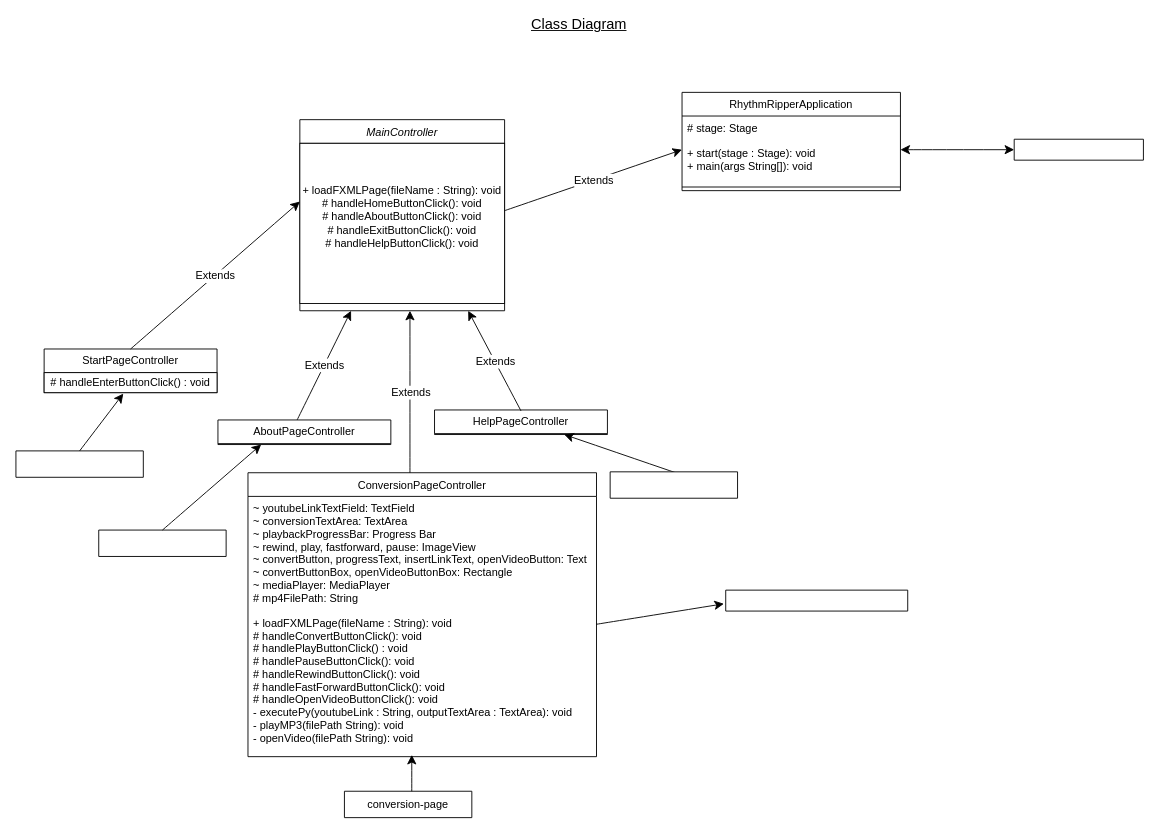
This 1159x834 diagram has some shape labels left out. Here are the shapes that lost their labels. From the top down, the centre of each, then its label:
(x=1078, y=149): styles
(x=79, y=463): start-page
(x=673, y=484): help-page
(x=162, y=542): about-page
(x=816, y=600): ytmp3
